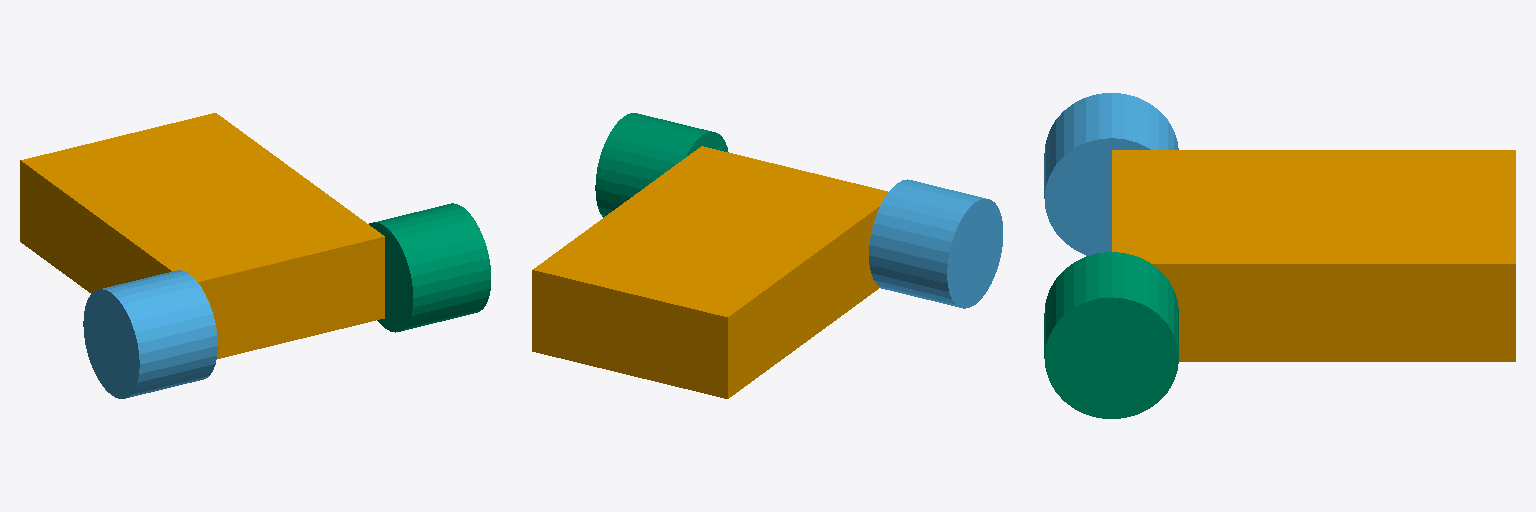
robot.urdf — test_robot:
<?xml version="1.0"?>
<robot name="test_robot">
  <link name="chassis">
    <inertial>
      <mass value="4.0" />
      <!-- center of mass (com) is defined w.r.t. link local coord system -->
      <origin xyz="0 0 0" />
      <inertia  ixx="1.0" ixy="0.0"  ixz="0.0"  iyy="100.0"  iyz="0.0"  izz="1.0" />
    </inertial>
    <visual>
       <!-- visual origin is defined w.r.t. link local coordinate system -->
       <origin xyz="0 0 0" rpy="0 0 0" />
       <geometry>
         <box size="0.5 0.75 0.2" />
       </geometry>
    </visual>
    <collision>
       <!-- collision origin is defined w.r.t. link local coord. system -->
       <origin xyz="0 0 0" rpy="0 0 0 " />
       <geometry>
         <box size="0.5 0.75 0.2" />
       </geometry>
    </collision>     
  </link>
  <gazebo reference="chassis">
    <material>Gazebo/Blue</material>
    <turnGravityOff>false</turnGravityOff>
  </gazebo>

  <link name="back_left_wheel">
    <inertial>
      <mass value="1.0" />
      <!-- center of mass (com) is defined w.r.t. link local coord system -->
      <origin xyz="0 0 0" />
      <inertia  ixx="1.0" ixy="0.0"  ixz="0.0"  iyy="100.0"  iyz="0.0"  izz="1.0" />
    </inertial>
    <visual>
       <!-- visual origin is defined w.r.t. link local coordinate system -->
       <origin xyz="0 0 0" rpy="0 0 0" />
       <geometry>
         <cylinder radius="0.125" length="0.2" />
       </geometry>
    </visual>
    <collision>
       <!-- collision origin is defined w.r.t. link local coord. system -->
       <origin xyz="0 0 0" rpy="0 0 0 " />
       <geometry>
         <cylinder radius="0.125" length="0.2" />
       </geometry>
    </collision>
  </link>
  <gazebo reference="back_left_wheel">
    <material>Gazebo/Green</material>
    <turnGravityOff>false</turnGravityOff>
  </gazebo>

  <joint name="joint_back_left_wheel" type="continuous">
    <parent link="chassis"/>
    <child link="back_left_wheel"/>
    <origin xyz="-0.35 -0.375 0" rpy="0 -1.5708 0" />
    <axis xyz="0 0 1" />
  </joint>

  <link name="back_right_wheel">
    <inertial>
      <mass value="1.0" />
      <!-- center of mass (com) is defined w.r.t. link local coord system -->
      <origin xyz="0 0 0" />
      <inertia  ixx="1.0" ixy="0.0"  ixz="0.0"  iyy="100.0"  iyz="0.0"  izz="1.0" />
    </inertial>
    <visual>
       <!-- visual origin is defined w.r.t. link local coordinate system -->
       <origin xyz="0 0 0" rpy="0 0 0" />
       <geometry>
         <cylinder radius="0.125" length="0.2" />
       </geometry>
    </visual>
    <collision>
       <!-- collision origin is defined w.r.t. link local coord. system -->
       <origin xyz="0 0 0" rpy="0 0 0 " />
       <geometry>
         <cylinder radius="0.125" length="0.2" />
       </geometry>
    </collision>
  </link>
  <gazebo reference="back_right_wheel">
    <material>Gazebo/Green</material>
    <turnGravityOff>false</turnGravityOff>
  </gazebo>

  <joint name="joint_back_right_wheel" type="continuous">
    <parent link="chassis"/>
    <child link="back_right_wheel"/>
    <origin xyz="0.35 -0.375 0" rpy="0 1.5708 0" />
    <axis xyz="0 0 1" />
  </joint>



</robot>

--- Facts derived from the render (not from the file) ---
Views: 3 orthographic renders of the robot side by side, from view 1: azimuth 30°, elevation 25°; view 2: azimuth 150°, elevation 25°; view 3: azimuth 270°, elevation 25°.
Robot: test_robot — 3 links, 2 joints (2 continuous); root link chassis; default pose: every joint at zero.
Visible links, largest first — view 1: chassis, back_left_wheel, back_right_wheel; view 2: chassis, back_left_wheel, back_right_wheel; view 3: chassis, back_right_wheel, back_left_wheel.
Link boxes in pixels (x1,y1,x2,y2): chassis: (20,113,384,358); back_left_wheel: (83,270,217,398); back_right_wheel: (369,203,490,332); chassis: (532,146,887,398); back_left_wheel: (869,179,1002,308); back_right_wheel: (595,113,728,217); chassis: (1112,150,1515,361); back_right_wheel: (1044,252,1178,418); back_left_wheel: (1044,93,1178,255).
Size in the robot's own frame: 0.9 by 0.875 by 0.25 metres.
Geometry: primitives only (box / cylinder / sphere), no mesh files.
